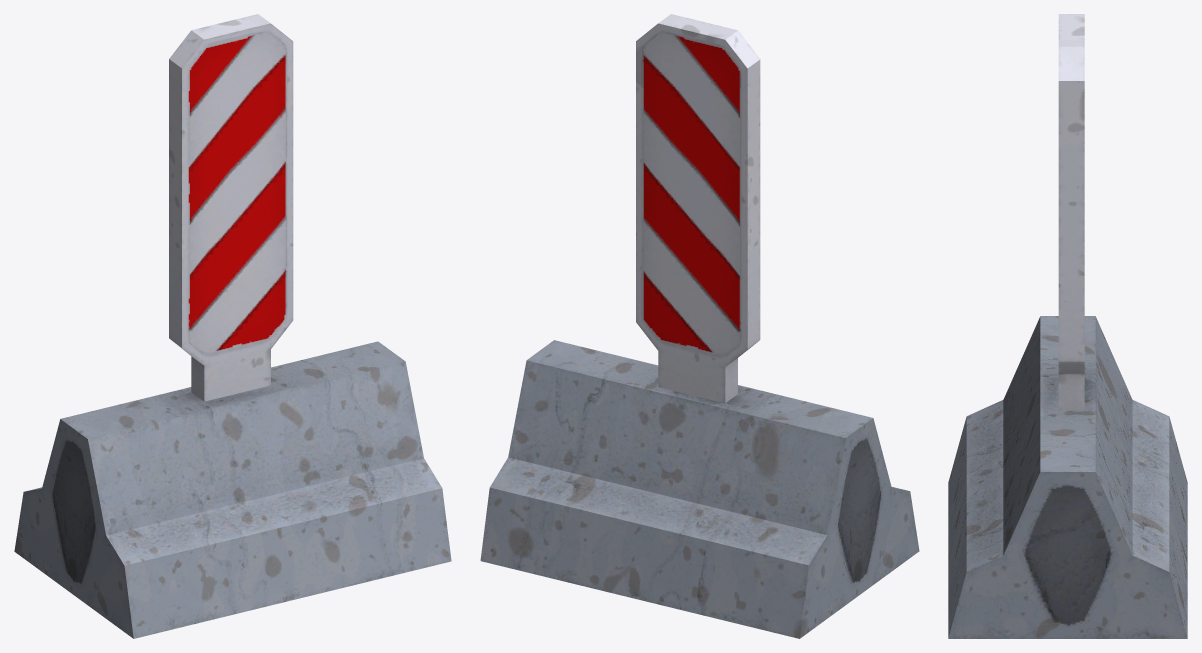
File: Blockade.gltf
The picture shows the model from 3 angles, left to right: view 1: azimuth 30°, elevation 25°; view 2: azimuth 150°, elevation 25°; view 3: azimuth 270°, elevation 25°; orthographic projection.
Parts seen in each view (by area): view 1: Blockade; view 2: Blockade; view 3: Blockade.
Boxes of the visible parts, <box> form: Blockade: <box>14,14,451,638</box>; Blockade: <box>480,14,919,638</box>; Blockade: <box>948,14,1187,638</box>.
Size of the model in its own units: 2.65 by 4.2 by 1.72.
Materials: 1 (1 with a texture image).
